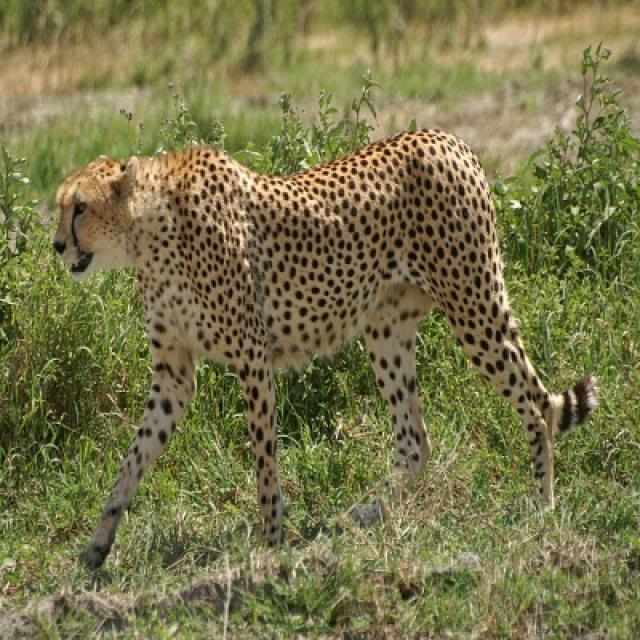Cheetah: (54, 130, 600, 573)
